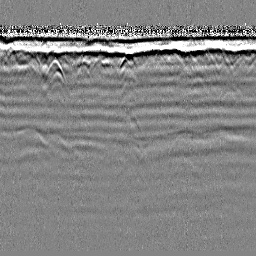cavity: (116, 49, 139, 71)
